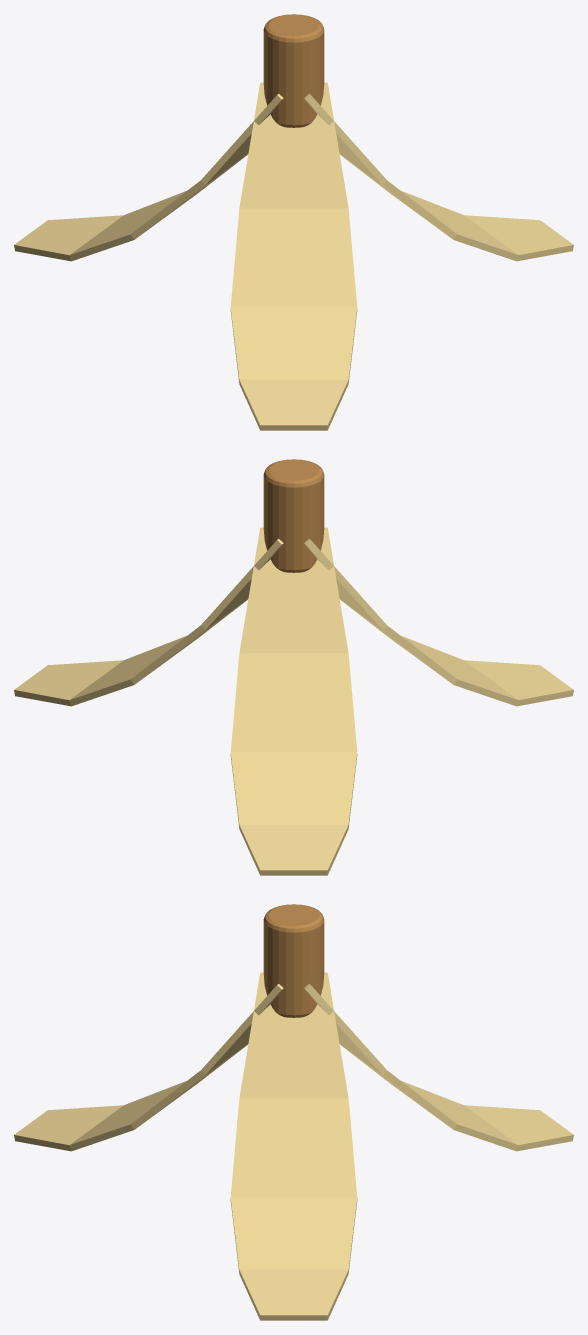
File: Item_banana_peel.fbx
The picture shows the model from 3 angles, top to bottom: view 1: azimuth 30°, elevation 25°; view 2: azimuth 150°, elevation 25°; view 3: azimuth 270°, elevation 25°; orthographic projection.
Parts seen in each view (by area): view 1: Item_banana_peel.Mesh; view 2: Item_banana_peel.Mesh; view 3: Item_banana_peel.Mesh.
Part boxes in pixels (x1,y1,x2,y2): Item_banana_peel.Mesh: (14,14,573,430); Item_banana_peel.Mesh: (14,459,573,875); Item_banana_peel.Mesh: (14,904,573,1320).
Size of the model in its own units: 57.46 by 36.29 by 66.35.
